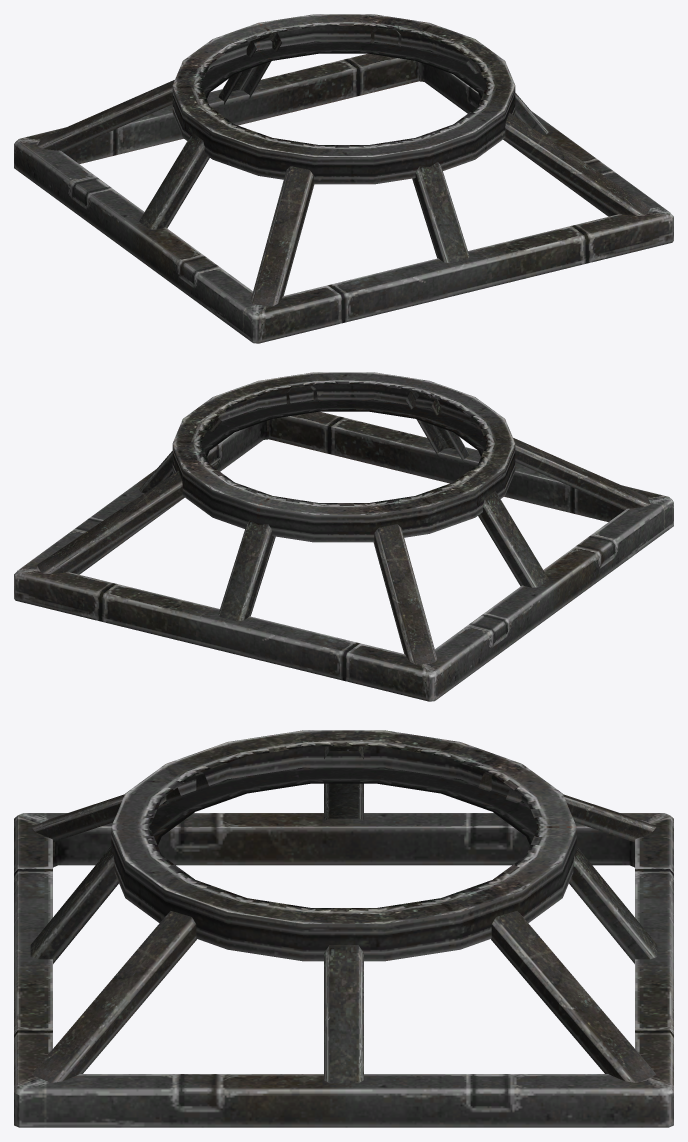
File: 04_02_infected_robot_arm_foot.dae
The picture shows the model from 3 angles, top to bottom: view 1: azimuth 30°, elevation 25°; view 2: azimuth 150°, elevation 25°; view 3: azimuth 270°, elevation 25°; orthographic projection. The views are drawn at different scales.
Parts seen in each view (by area): view 1: polySurface125; view 2: polySurface125; view 3: polySurface125.
Boxes of the visible parts, box(x1,y1,x2,y2) form: polySurface125: box(14, 14, 673, 343); polySurface125: box(14, 372, 673, 701); polySurface125: box(14, 730, 673, 1127).
Size of the model in its own units: 1.54 by 0.4148 by 1.54.
